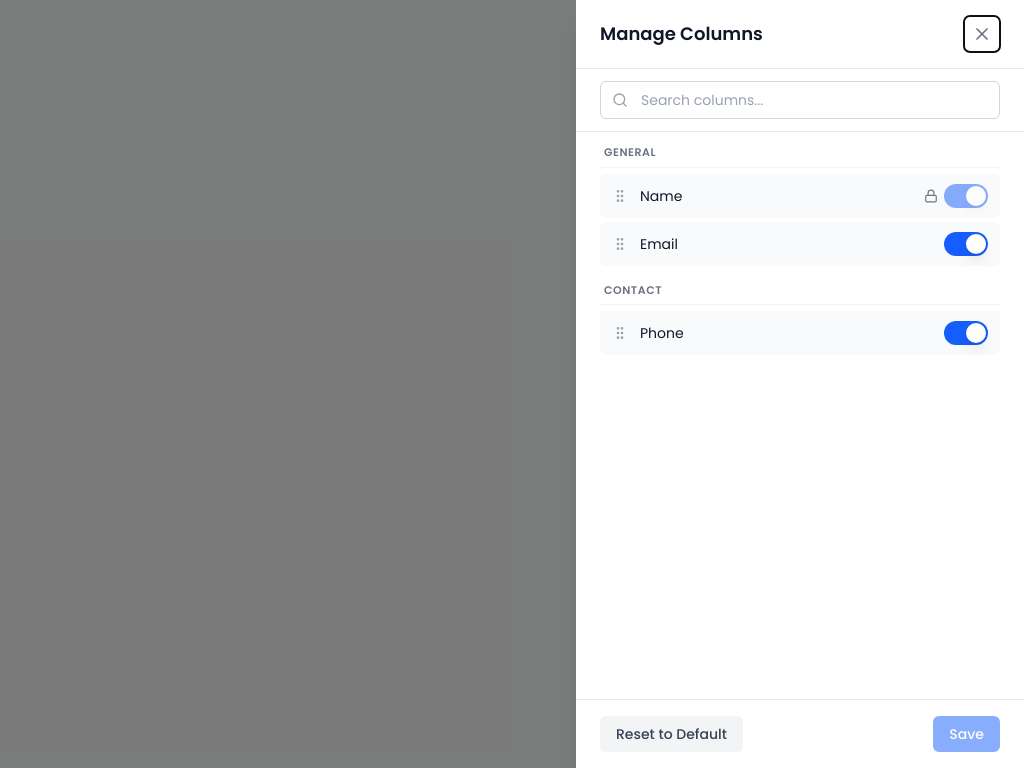
Test: ManageColumnsDrawer — save, retry, and unsaved-changes guard › Requirement 5.2: Save persists via onSave › shows "Saved" after successful save
// Create a change
Click the switch named "Toggle Email visibility" at (966, 244), box [944, 232, 988, 256]
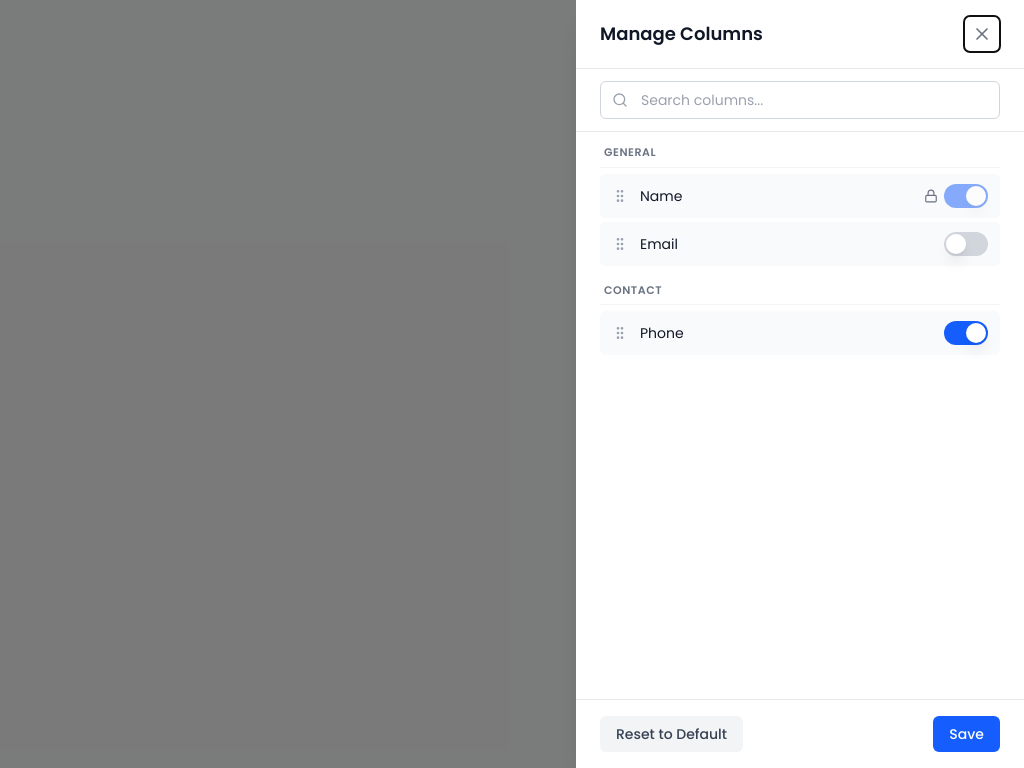
// Click Save
Click the button "Save" at (967, 734), box [933, 716, 1000, 752]
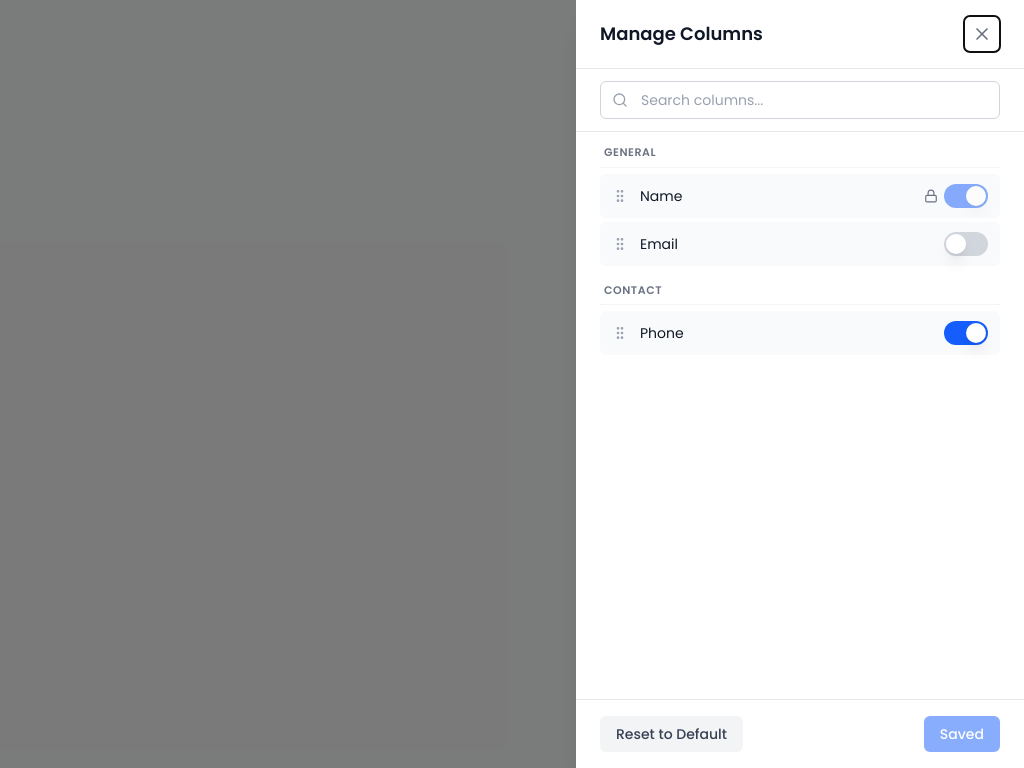
Now the button "Saved" is shown, box [924, 716, 1000, 752]
